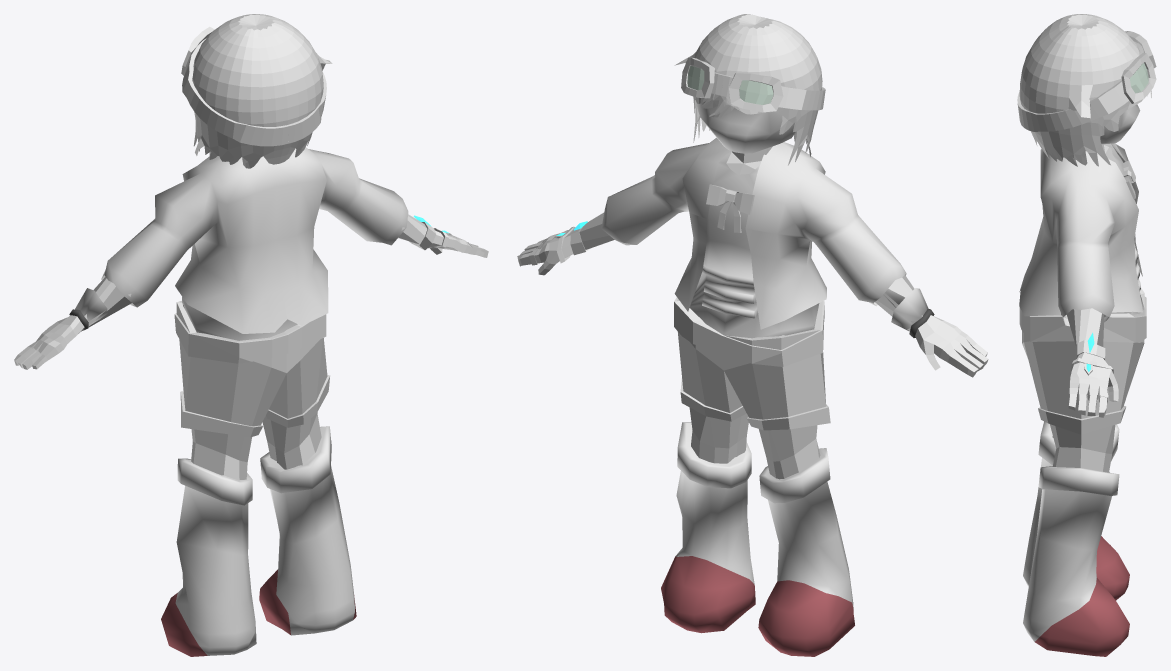
The model's file is chara.fbx.
3 views of the same model, side by side, from view 1: azimuth 30°, elevation 25°; view 2: azimuth 150°, elevation 25°; view 3: azimuth 270°, elevation 25° (orthographic). The views are drawn at different scales.
Parts seen in each view (by area): view 1: jacket, boots, Pants, hair, body.001, 立方体, body.002, Grove, shirt, body.003; view 2: boots, jacket, Pants, hair, shirt, body.001, 立方体, body.002, face, Grove, body.003, Ribon; view 3: boots, jacket, hair, Pants, Grove, 立方体, body.001, face, shirt, Ribon.
Part boxes in pixels (box(x1,y1,x2,y2)): jacket: box(101, 147, 408, 333); boots: box(161, 426, 356, 656); Pants: box(174, 301, 329, 437); hair: box(192, 14, 332, 168); body.001: box(183, 305, 321, 480); 立方体: box(181, 26, 326, 146); body.002: box(14, 277, 131, 369); Grove: box(398, 214, 488, 257); shirt: box(105, 227, 404, 340); body.003: box(69, 288, 107, 330); boots: box(661, 422, 854, 656); jacket: box(601, 137, 906, 329); Pants: box(674, 297, 830, 430); hair: box(674, 14, 822, 165); shirt: box(689, 150, 819, 338); body.001: box(689, 146, 820, 479); 立方体: box(681, 57, 825, 112); body.002: box(875, 275, 988, 377); face: box(696, 101, 796, 153); Grove: box(517, 212, 614, 275); body.003: box(883, 288, 934, 337); Ribon: box(706, 184, 754, 232); boots: box(1023, 421, 1129, 656); jacket: box(1019, 143, 1142, 326); hair: box(1019, 14, 1151, 166); Pants: box(1019, 287, 1146, 434); Grove: box(1066, 308, 1118, 417); 立方体: box(1017, 31, 1156, 131); body.001: box(1050, 144, 1116, 472); face: box(1100, 104, 1140, 144); shirt: box(1061, 143, 1144, 319); Ribon: box(1123, 160, 1135, 198).
Bounding box in the file's own units: 262 × 332 × 69.43.
